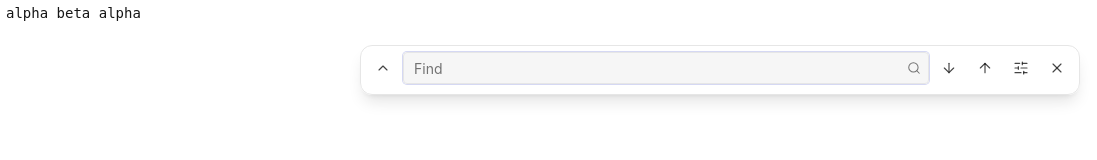
it: custom editor search panel › shows a match count while there is a query
Type "alpha" into the field with test id "note-search-find" at (666, 68), box [403,52,929,84]
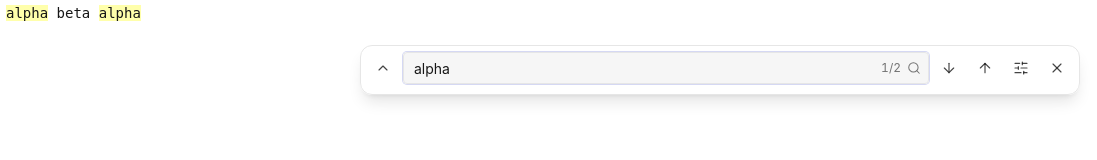
Check: the text with test id "note-search-count" reads "1/2", box [881,60,901,75]
